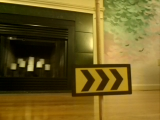right: (72, 64, 131, 93)
